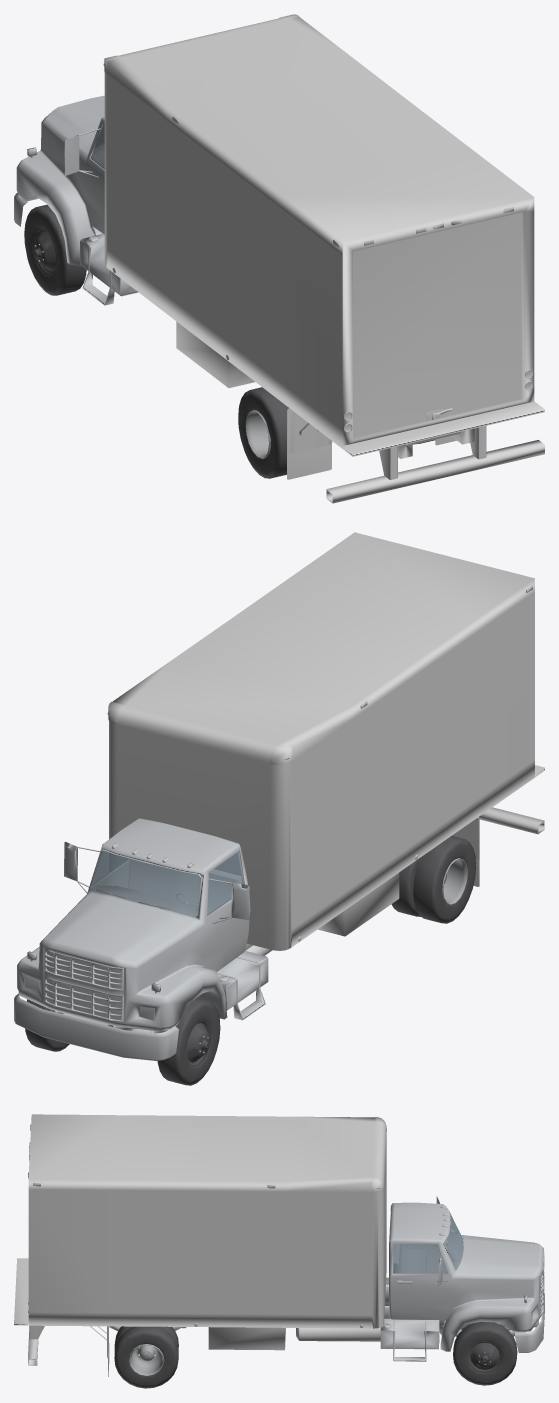
File: truck-full.glb
The picture shows the model from 3 angles, top to bottom: view 1: azimuth 30°, elevation 25°; view 2: azimuth 150°, elevation 25°; view 3: azimuth 270°, elevation 25°; orthographic projection. The views are drawn at different scales.
Parts seen in each view (by area): view 1: body; view 2: body, glass; view 3: body, glass.
Boxes of the visible parts, x1,y1,x2,y2 form: body: (14,14,544,503); body: (14,532,544,1085); glass: (90,850,244,916); body: (14,1114,544,1388); glass: (393,1213,463,1273).
Bounding box in the file's own units: 2.29 × 3.07 × 7.1.
